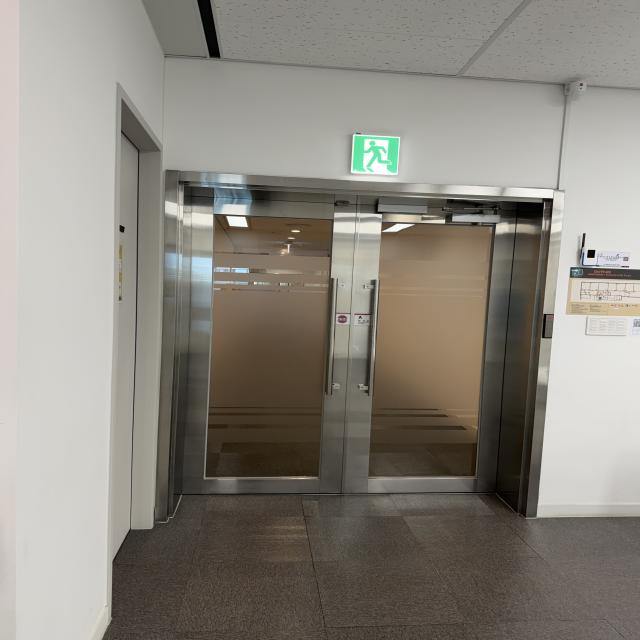rear_door: (182, 186, 547, 502)
